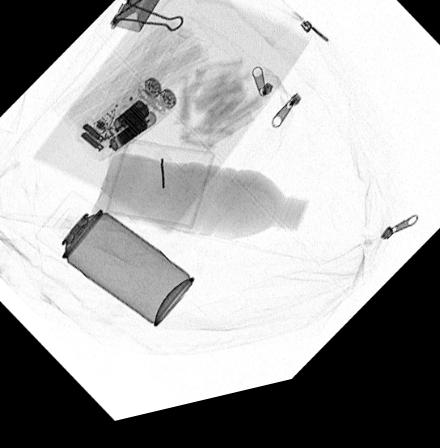Sprayer: (36, 195, 195, 334)
